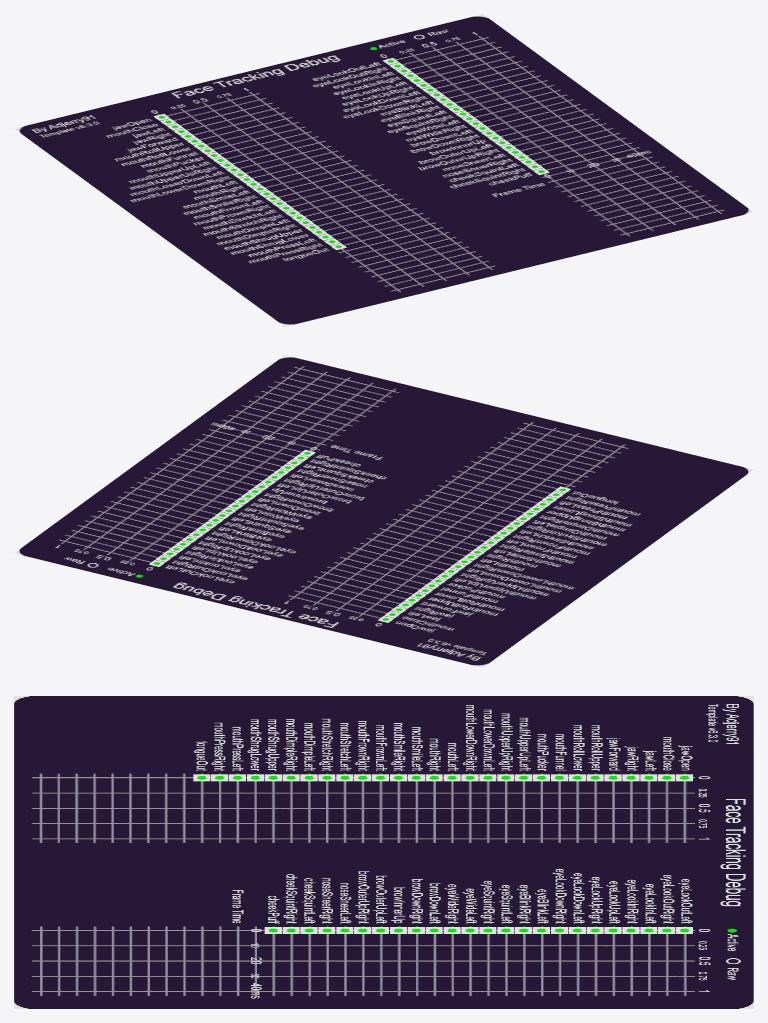
File: FT_ARkit_Debug.fbx
3 renders of one model, top to bottom at view 1: azimuth 30°, elevation 25°; view 2: azimuth 150°, elevation 25°; view 3: azimuth 270°, elevation 25°, orthographic. The views are drawn at different scales.
Parts seen in each view (by area): view 1: Debug; view 2: Debug; view 3: Debug.
Part boxes in pixels (bbox=[...]): Debug: bbox=[14, 14, 753, 326]; Debug: bbox=[14, 355, 753, 667]; Debug: bbox=[14, 696, 753, 1008].
Size of the model in its own units: 0.75 by 4.67e-07 by 0.75.
